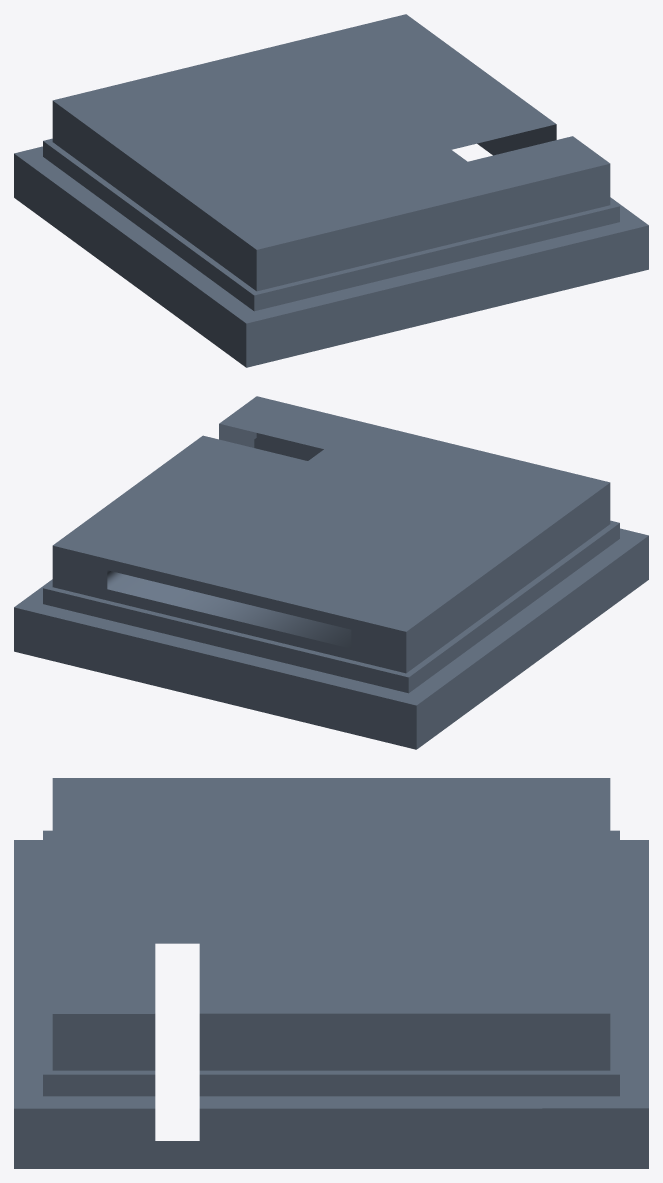
Rendered from RMirror_Base.fbx.
3 views of the same model, one above another, from view 1: azimuth 30°, elevation 25°; view 2: azimuth 150°, elevation 25°; view 3: azimuth 270°, elevation 25° (orthographic). The views are drawn at different scales.
Visible parts, largest first — view 1: Cube.001; view 2: Cube.001; view 3: Cube.001.
Boxes of the visible parts, box(x1,y1,x2,y2) form: Cube.001: box(14, 14, 648, 367); Cube.001: box(14, 396, 648, 749); Cube.001: box(14, 778, 648, 1168).
Size of the model in its own units: 143 by 34.54 by 143.
